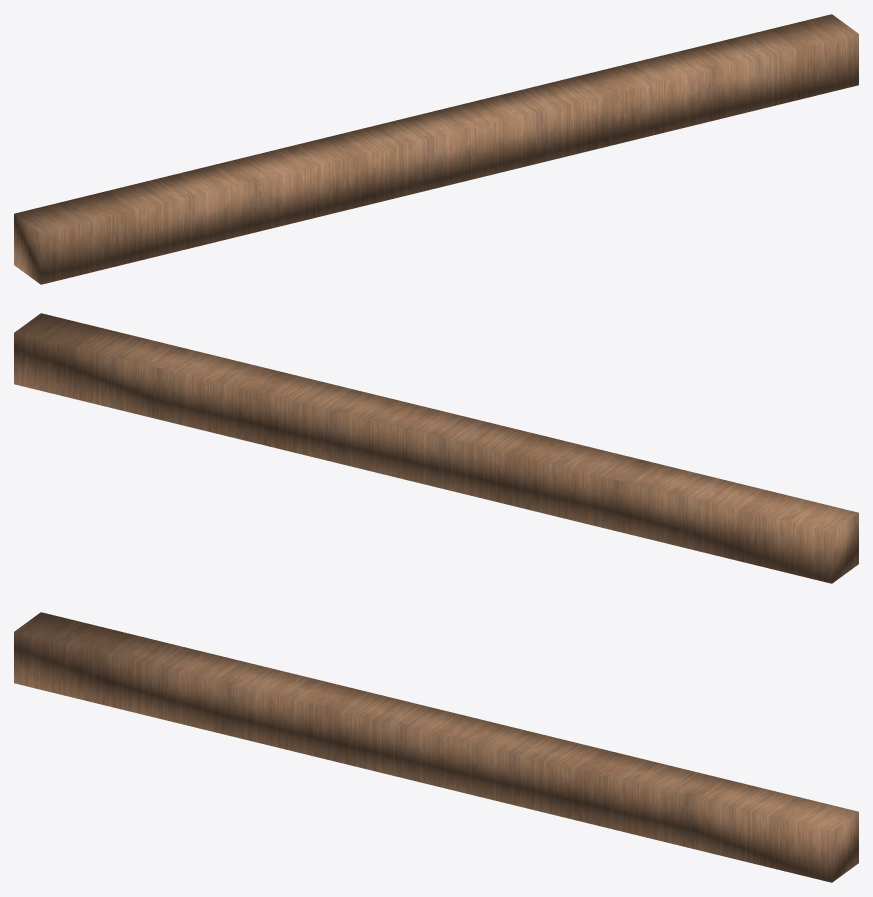
The picture shows the model from 3 angles, top to bottom: view 1: azimuth 30°, elevation 25°; view 2: azimuth 150°, elevation 25°; view 3: azimuth 330°, elevation 25°; orthographic projection.
Visible parts, largest first — view 1: Cube157_Wood_02001_0; view 2: Cube157_Wood_02001_0; view 3: Cube157_Wood_02001_0.
Boxes of the visible parts, <box> form: Cube157_Wood_02001_0: <box>14,14,858,284</box>; Cube157_Wood_02001_0: <box>14,313,858,583</box>; Cube157_Wood_02001_0: <box>14,612,858,882</box>.
Bounding box in the file's own units: 3.5 × 0.21 × 0.2.
Materials: 1 (1 with a texture image).
